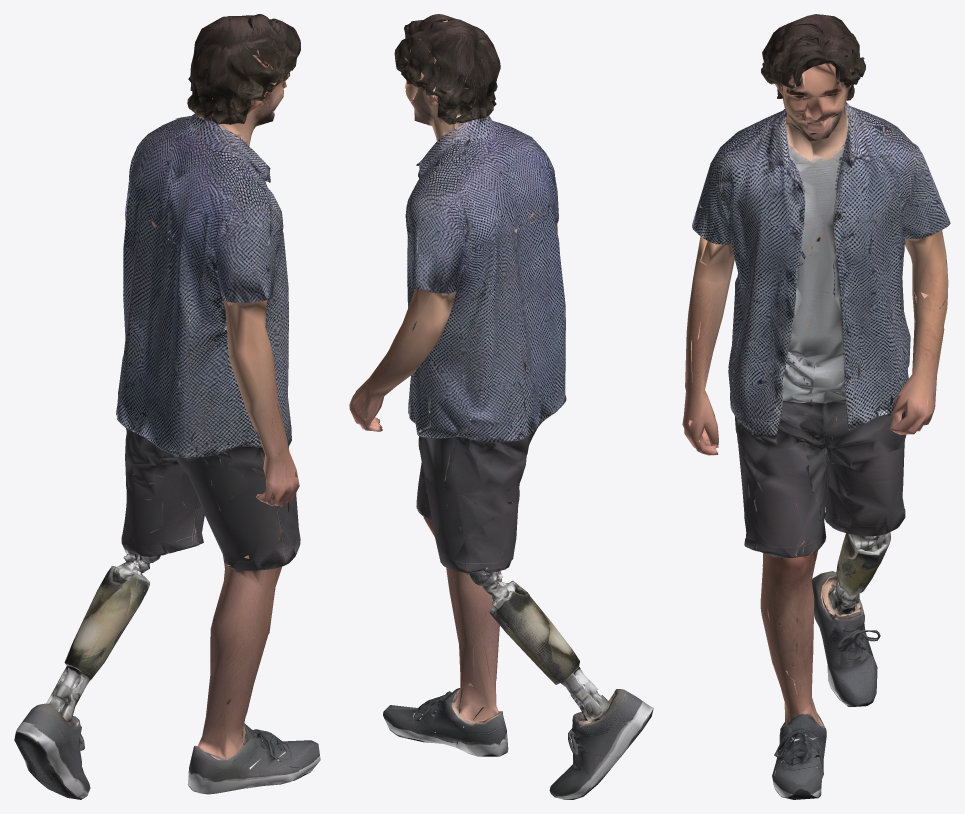
File: periodista.glb
3 views of the same model, side by side, from view 1: azimuth 30°, elevation 25°; view 2: azimuth 150°, elevation 25°; view 3: azimuth 270°, elevation 25° (orthographic). The views are drawn at different scales.
Parts seen in each view (by area): view 1: centrado; view 2: centrado; view 3: centrado.
Boxes of the visible parts, left/top/right/bottom form: centrado: left=14, top=14, right=320, bottom=799; centrado: left=349, top=14, right=653, bottom=799; centrado: left=682, top=14, right=950, bottom=799.
Bounding box in the file's own units: 0.7571 × 1.9 × 0.6107.
1 material, 1 textured.
